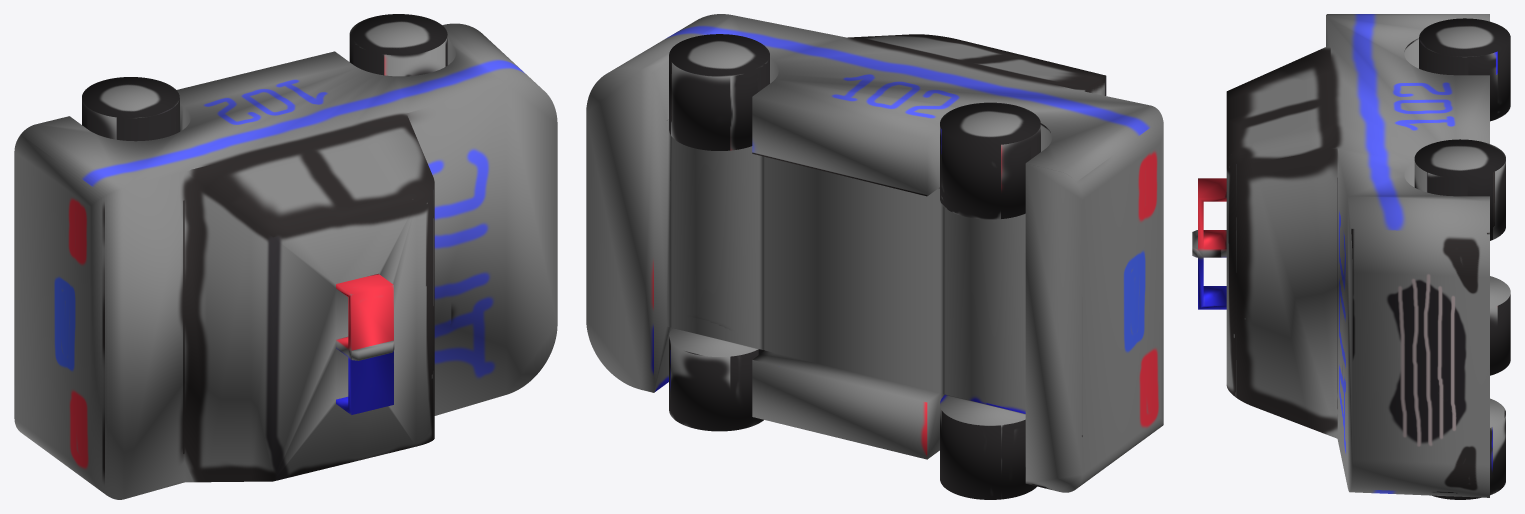
File: Auto.obj
3 views of the same model, side by side, from view 1: azimuth 30°, elevation 25°; view 2: azimuth 150°, elevation 25°; view 3: azimuth 270°, elevation 25° (orthographic). The views are drawn at different scales.
Visible parts, largest first — view 1: Auto; view 2: Auto; view 3: Auto.
Boxes of the visible parts, left/top/right/bottom form: Auto: left=14, top=14, right=557, bottom=499; Auto: left=586, top=14, right=1163, bottom=499; Auto: left=1192, top=14, right=1510, bottom=499.
Size of the model in its own units: 0.227 by 0.155 by 0.139.
